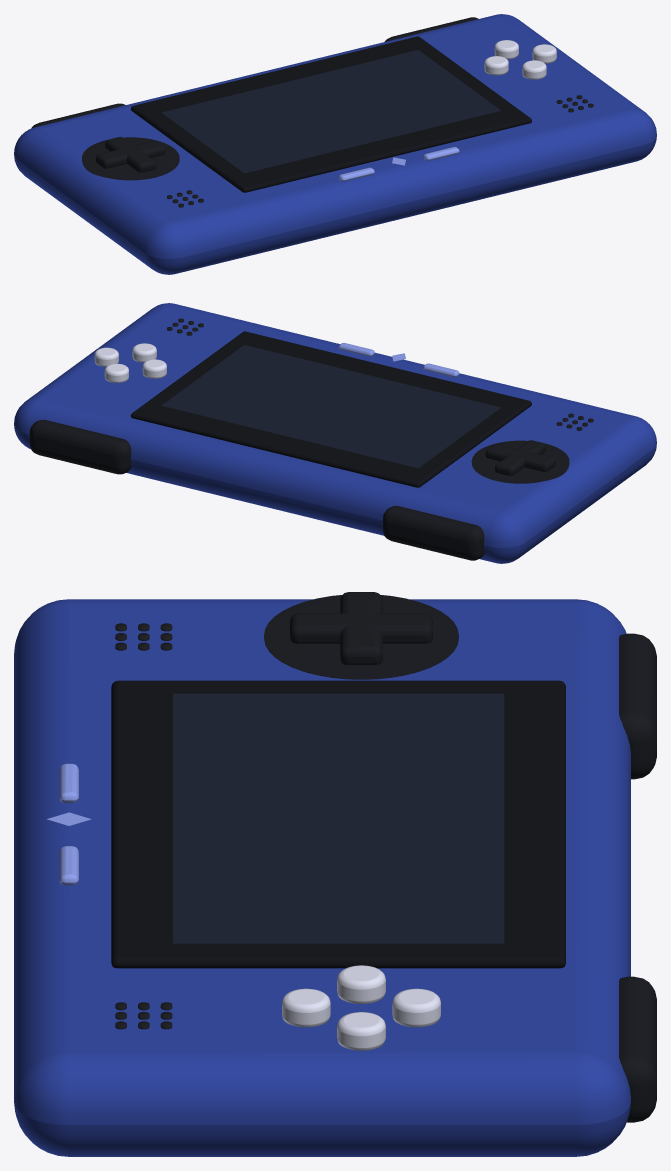
File: handheld.glb
The picture shows the model from 3 angles, top to bottom: view 1: azimuth 30°, elevation 25°; view 2: azimuth 150°, elevation 25°; view 3: azimuth 270°, elevation 25°; orthographic projection. The views are drawn at different scales.
Visible parts, largest first — view 1: HH_Body, HH_Screen, HH_Bezel, HH_DpadBase, HH_DpadH, HH_DpadV, HH_Btn2, HH_Btn3, HH_Btn0, HH_Btn1; view 2: HH_Body, HH_Screen, HH_Bezel, HH_Shoulder1, HH_Shoulder0, HH_DpadBase, HH_DpadH, HH_DpadV, HH_Btn3, HH_Btn0, HH_Btn2, HH_Btn1; view 3: HH_Body, HH_Screen, HH_Bezel, HH_DpadBase, HH_Shoulder1, HH_Shoulder0, HH_DpadV, HH_DpadH, HH_Btn0, HH_Btn1, HH_Btn3, HH_Btn2.
Boxes of the visible parts, bbox=[...] form: HH_Body: bbox=[14, 14, 656, 274]; HH_Screen: bbox=[161, 50, 500, 173]; HH_Bezel: bbox=[131, 36, 531, 192]; HH_DpadBase: bbox=[82, 137, 179, 180]; HH_DpadH: bbox=[96, 140, 165, 168]; HH_DpadV: bbox=[105, 137, 156, 172]; HH_Btn2: bbox=[522, 60, 546, 79]; HH_Btn3: bbox=[484, 56, 508, 75]; HH_Btn0: bbox=[494, 40, 518, 59]; HH_Btn1: bbox=[532, 44, 556, 63]; HH_Body: bbox=[14, 303, 656, 563]; HH_Screen: bbox=[161, 345, 500, 468]; HH_Bezel: bbox=[130, 331, 531, 487]; HH_Shoulder1: bbox=[29, 419, 131, 474]; HH_Shoulder0: bbox=[383, 506, 484, 560]; HH_DpadBase: bbox=[471, 440, 569, 483]; HH_DpadH: bbox=[485, 444, 555, 471]; HH_DpadV: bbox=[495, 440, 546, 475]; HH_Btn3: bbox=[142, 359, 166, 378]; HH_Btn0: bbox=[104, 363, 128, 382]; HH_Btn2: bbox=[132, 343, 156, 362]; HH_Btn1: bbox=[94, 347, 118, 366]; HH_Body: bbox=[14, 599, 630, 1156]; HH_Screen: bbox=[173, 693, 504, 943]; HH_Bezel: bbox=[111, 680, 565, 968]; HH_DpadBase: bbox=[264, 595, 458, 679]; HH_Shoulder1: bbox=[619, 976, 656, 1122]; HH_Shoulder0: bbox=[619, 633, 656, 779]; HH_DpadV: bbox=[290, 613, 432, 643]; HH_DpadH: bbox=[340, 592, 382, 664]; HH_Btn0: bbox=[392, 988, 440, 1027]; HH_Btn1: bbox=[337, 1012, 385, 1050]; HH_Btn3: bbox=[337, 965, 385, 1003]; HH_Btn2: bbox=[282, 988, 330, 1027].
Size of the model in its own units: 3.6 by 0.41 by 1.98.
